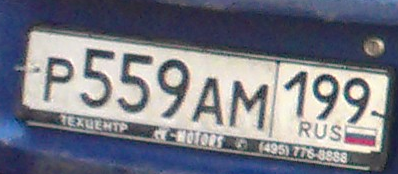character: (117, 46, 155, 117), (79, 45, 117, 111), (226, 77, 269, 133), (157, 55, 191, 123), (192, 70, 226, 131), (341, 70, 373, 125), (42, 54, 76, 105), (310, 70, 341, 123), (283, 69, 309, 121)
